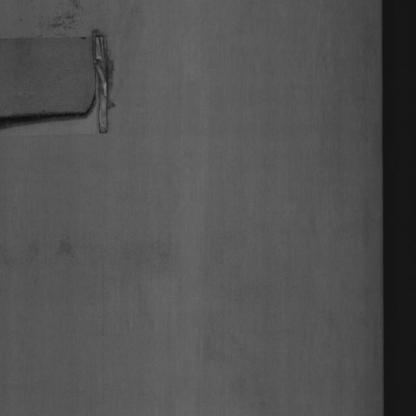rolled_pit: (0, 20, 146, 168)
